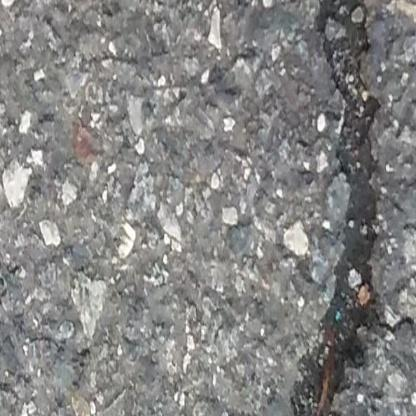Cracks: (280, 0, 401, 416), (381, 280, 416, 370)
